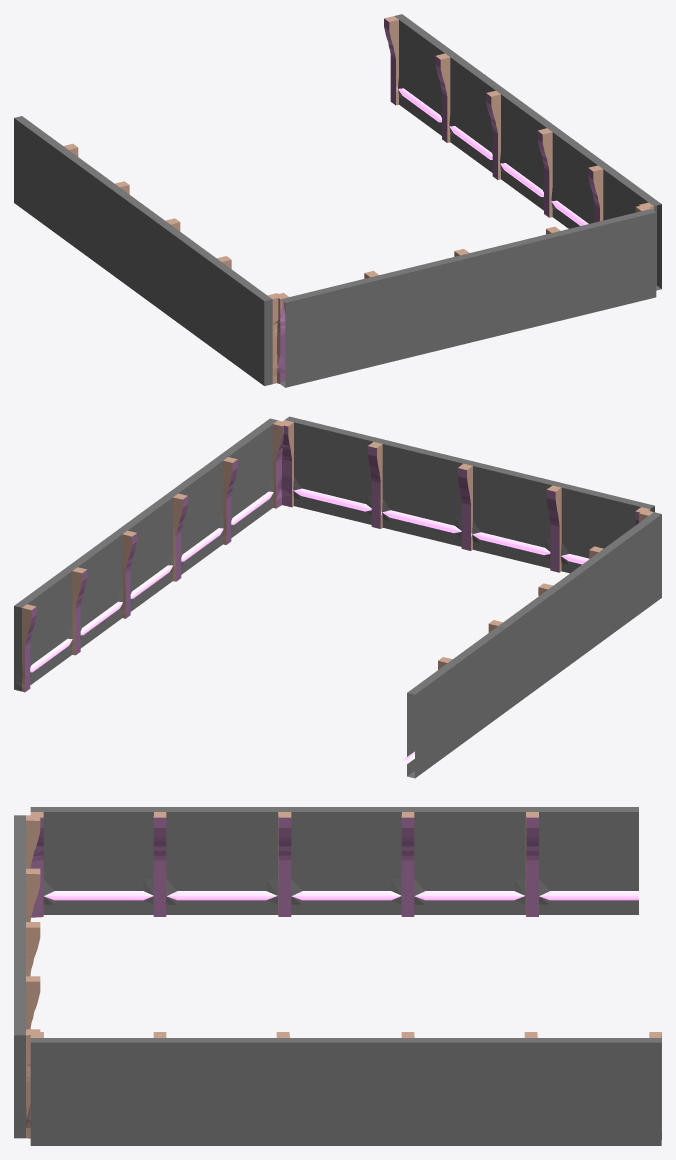
Rendered from wallshorthall.fbx.
3 renders of one model, top to bottom at view 1: azimuth 30°, elevation 25°; view 2: azimuth 150°, elevation 25°; view 3: azimuth 270°, elevation 25°, orthographic. The views are drawn at different scales.
Parts seen in each view (by area): view 1: wallglass; view 2: wallglass; view 3: wallglass.
Part boxes in pixels (box(x1,y1,x2,y2)): wallglass: box(14, 14, 661, 387); wallglass: box(14, 416, 661, 778); wallglass: box(14, 807, 661, 1145).
Size of the model in its own units: 9 by 1.84 by 10.46.
